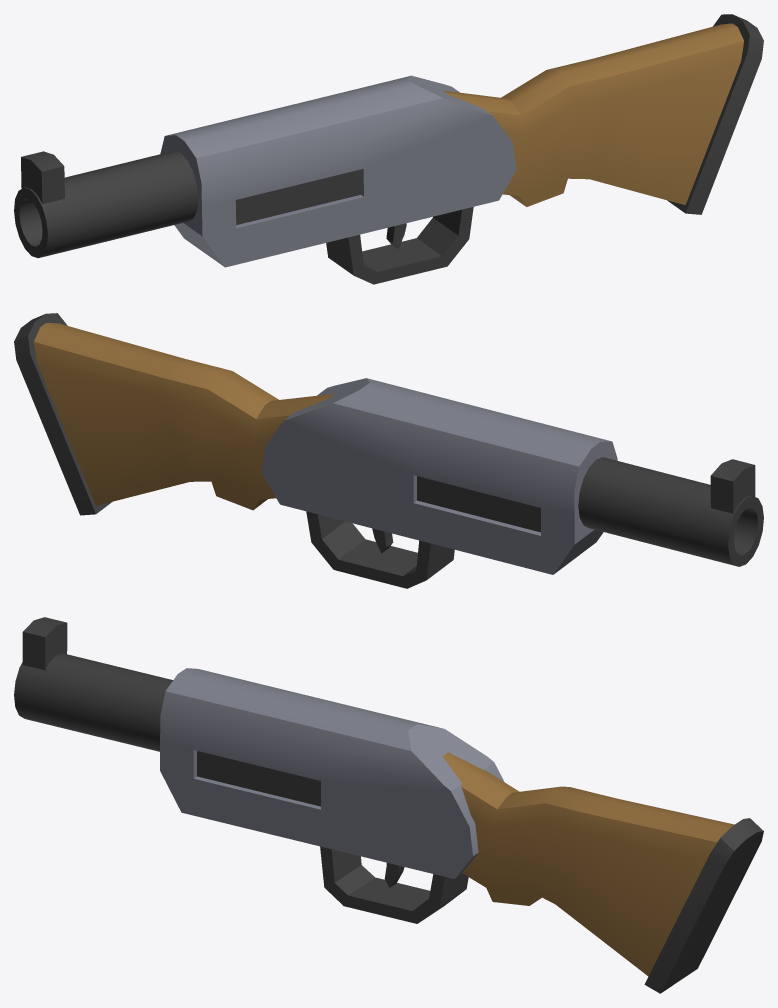
File: cannon.glb
3 renders of one model, top to bottom at view 1: azimuth 30°, elevation 25°; view 2: azimuth 150°, elevation 25°; view 3: azimuth 330°, elevation 25°, orthographic.
Visible parts, largest first — view 1: ShortCannon; view 2: ShortCannon; view 3: ShortCannon.
Boxes of the visible parts, x1,y1,x2,y2 form: ShortCannon: [14, 14, 763, 284]; ShortCannon: [14, 313, 763, 588]; ShortCannon: [14, 617, 763, 993].
Bounding box in the file's own units: 1.21 × 0.3141 × 0.1318.
